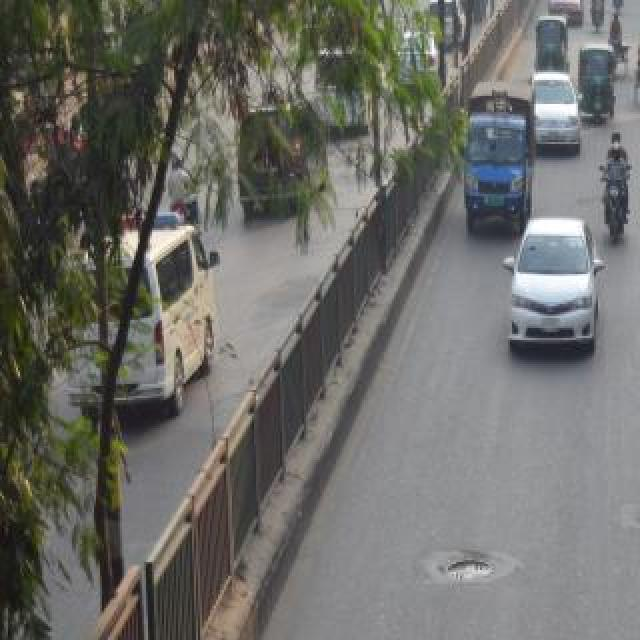car: (507, 226, 607, 380), (530, 80, 584, 154), (390, 31, 438, 93), (426, 0, 472, 40)
motorbike: (600, 111, 638, 243)
van: (77, 213, 231, 419), (456, 80, 538, 222), (235, 105, 331, 223), (314, 48, 376, 134)
